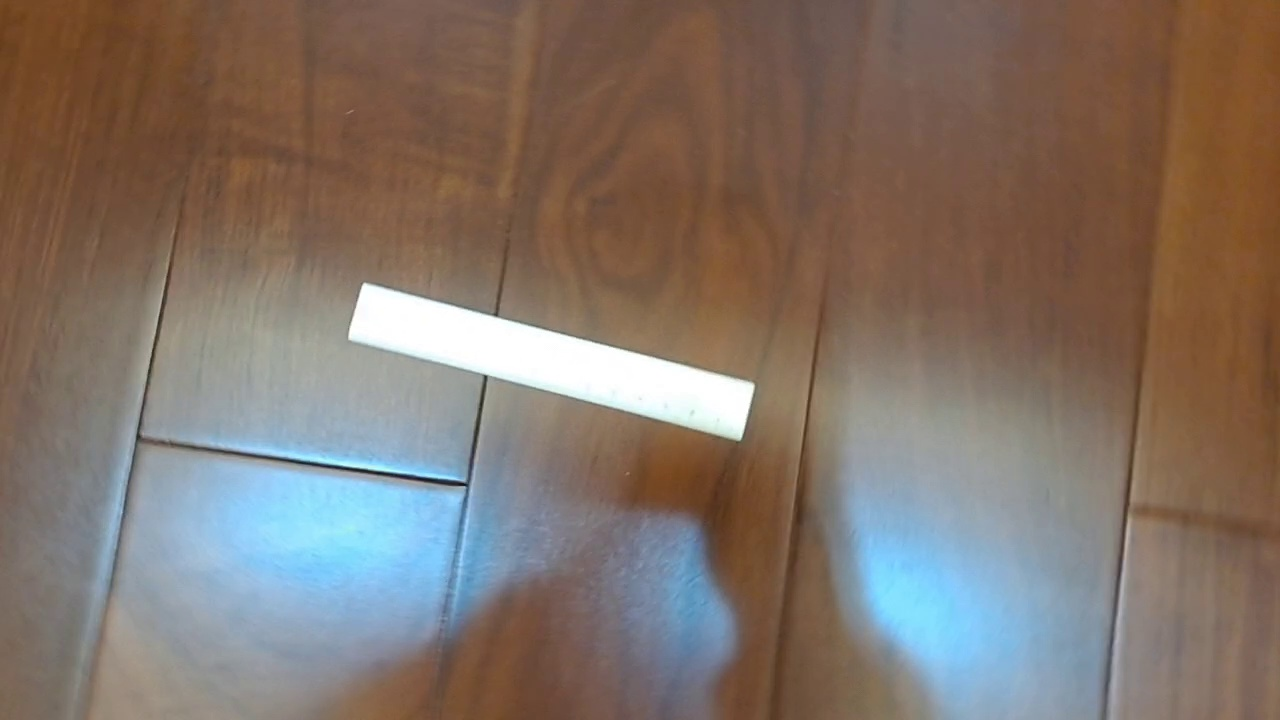ruler: (346, 279, 757, 444)
